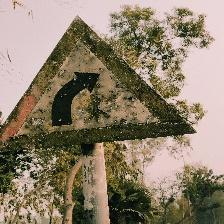Right-turn: (2, 15, 198, 147)
